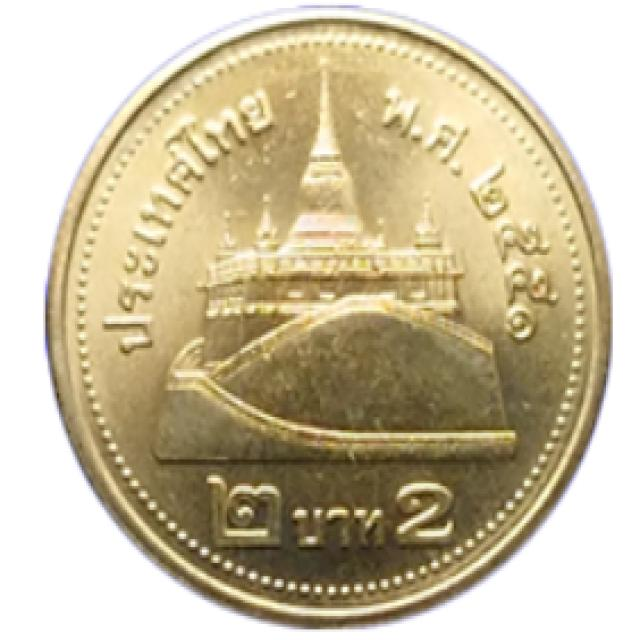2 Bath: (35, 3, 623, 634)
